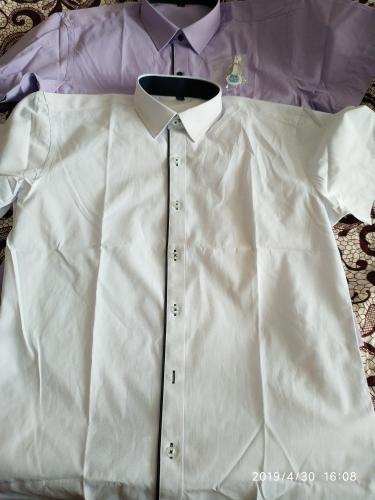shirts: (9, 83, 374, 500)
